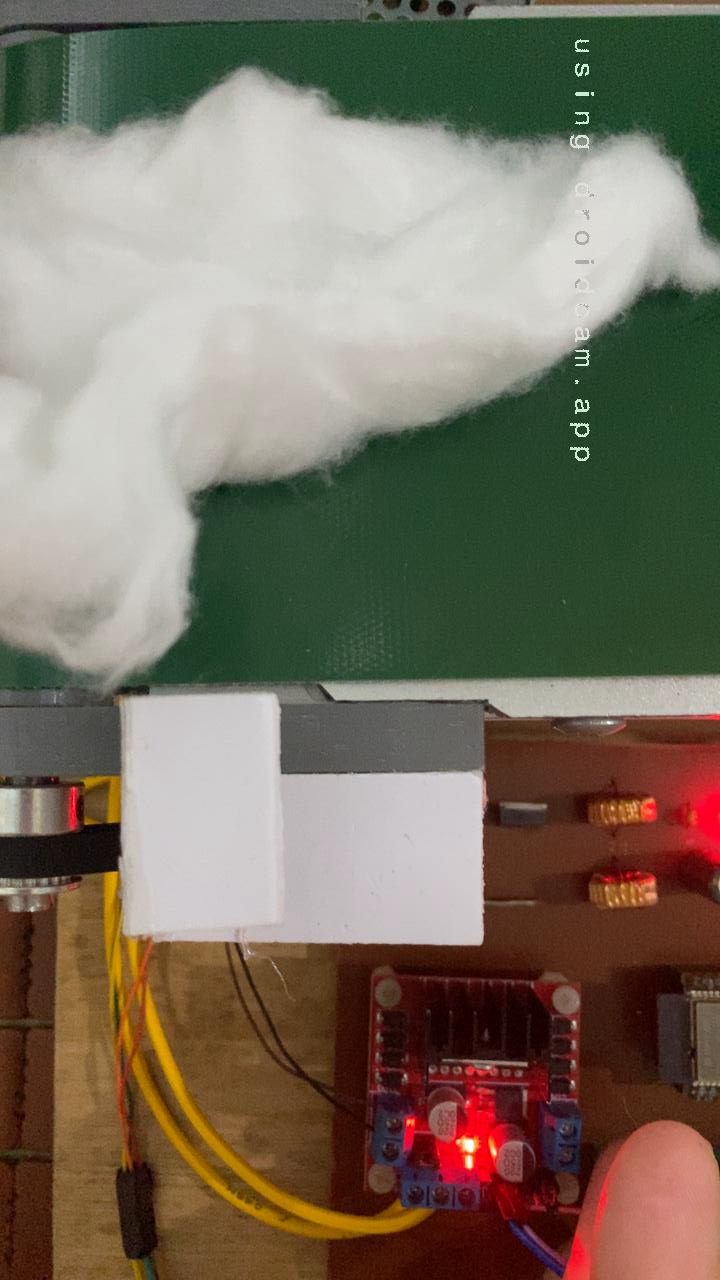cotton: (0, 59, 720, 679)
